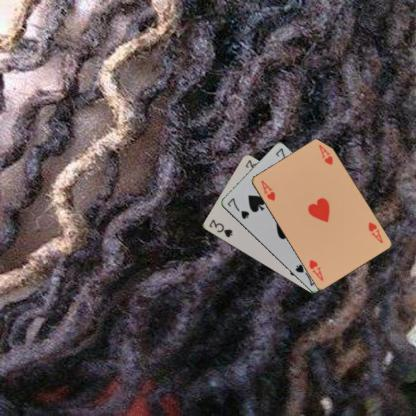3s: (206, 216, 234, 238)
7s: (224, 195, 250, 220)
Ah: (258, 177, 276, 202), (366, 220, 384, 244)
